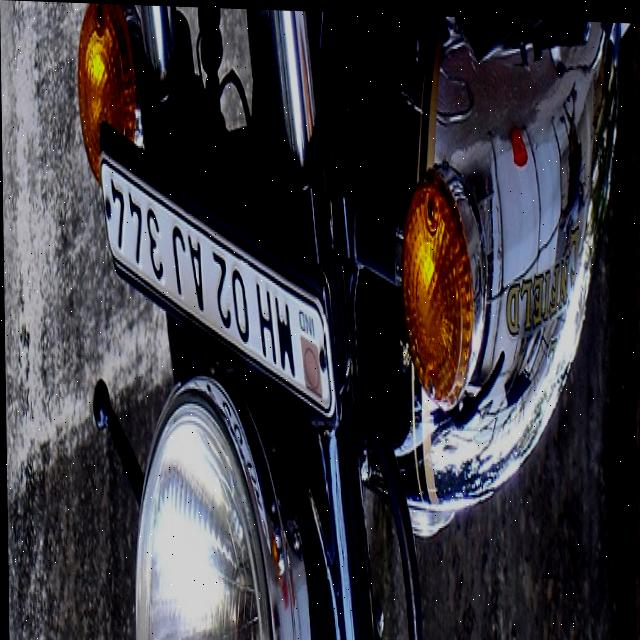plate: (100, 108, 337, 428)
